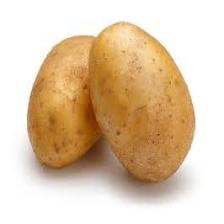Potato: (88, 20, 198, 187), (23, 32, 109, 174)
